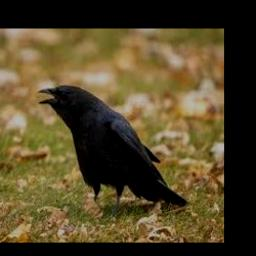Crow: (38, 84, 188, 218)
